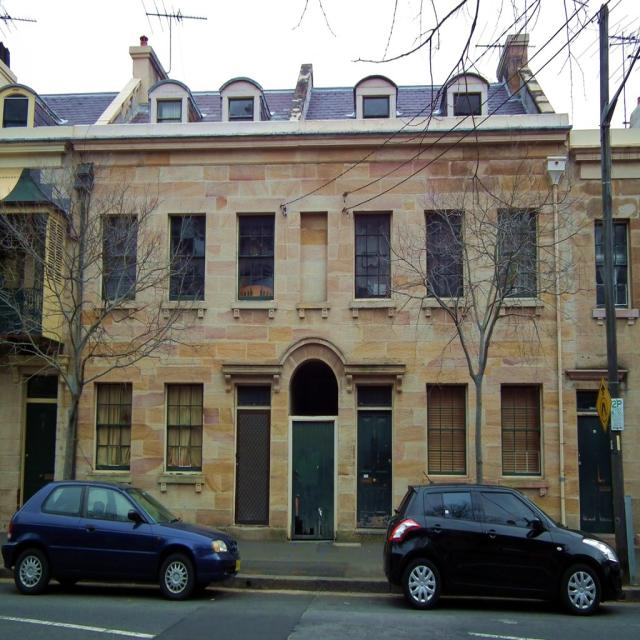car: (380, 469, 624, 609), (0, 474, 241, 609)
